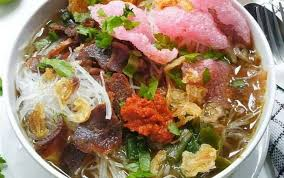soto: (6, 1, 278, 177)
